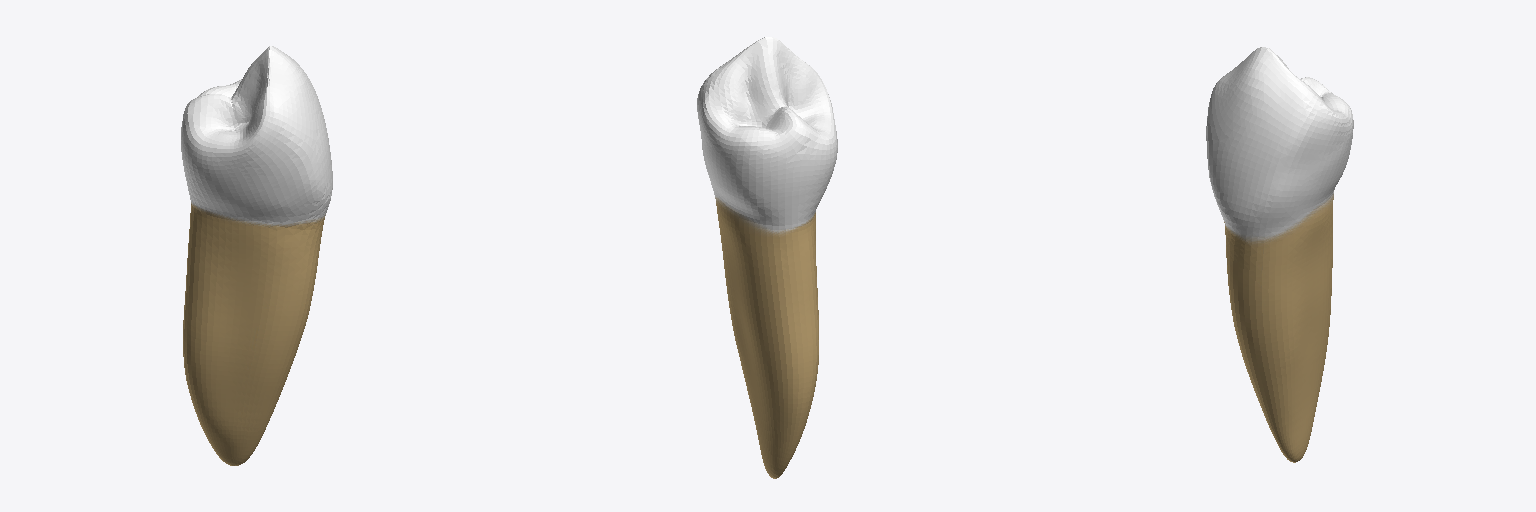
3 renders of one model, left to right at view 1: azimuth 30°, elevation 25°; view 2: azimuth 150°, elevation 25°; view 3: azimuth 270°, elevation 25°, orthographic.
Visible parts, largest first — view 1: outer; view 2: outer; view 3: outer.
Boxes of the visible parts, <box> form: outer: <box>181,46,332,465</box>; outer: <box>697,37,837,478</box>; outer: <box>1206,47,1353,462</box>.
Bounding box in the file's own units: 2.72 × 8.47 × 2.66.
Materials: 2 (1 with a texture image).